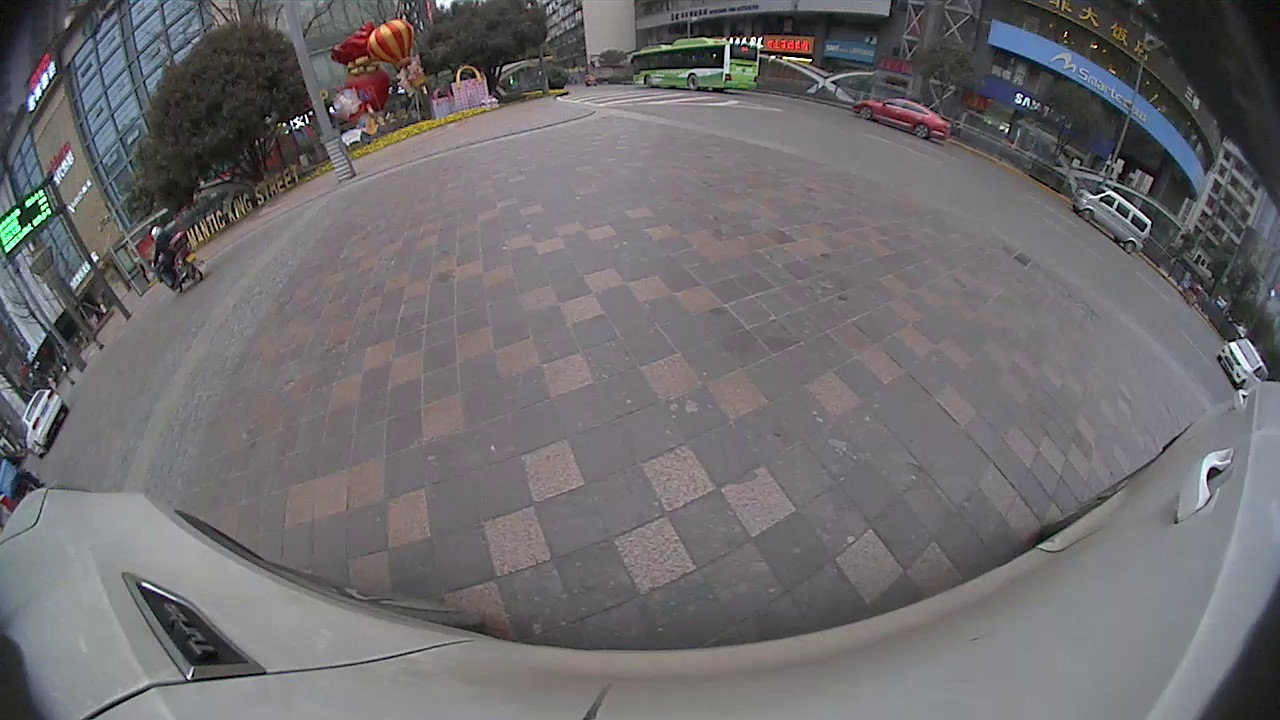bus: (631, 44, 761, 90)
car: (1074, 183, 1151, 255), (855, 98, 951, 138), (23, 389, 70, 455), (1219, 340, 1265, 387)
front: (855, 105, 875, 123), (1079, 206, 1096, 224), (640, 73, 657, 89)
rear: (913, 123, 933, 140), (1122, 238, 1139, 256), (685, 74, 702, 91)
rider: (152, 224, 202, 294)
